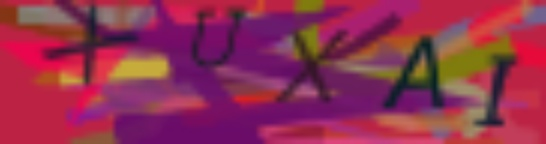A: (382, 34, 447, 111)
I: (471, 55, 520, 131)
U: (188, 7, 244, 71)
X: (40, 1, 140, 88), (273, 27, 351, 105)
